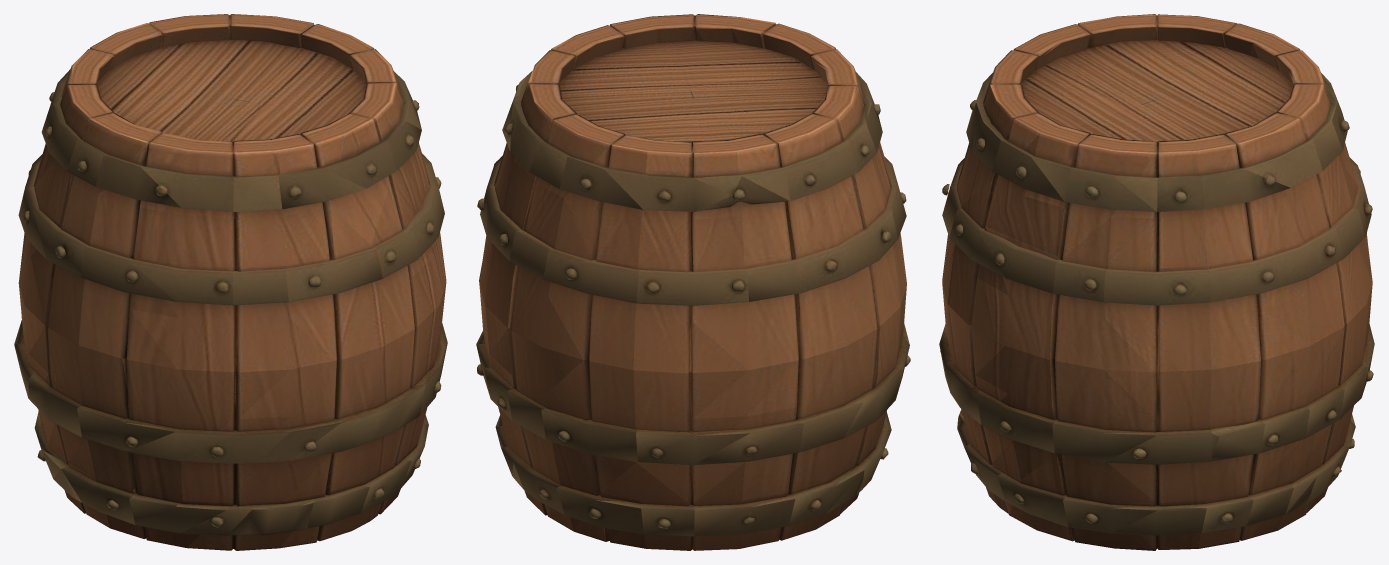
File: obstacle-barrel.glb
3 renders of one model, left to right at view 1: azimuth 30°, elevation 25°; view 2: azimuth 150°, elevation 25°; view 3: azimuth 270°, elevation 25°, orthographic.
Visible parts, largest first — view 1: mesh_node; view 2: mesh_node; view 3: mesh_node.
Boxes of the visible parts, bbox=[...] form: mesh_node: bbox=[14, 14, 447, 550]; mesh_node: bbox=[476, 14, 910, 550]; mesh_node: bbox=[939, 14, 1374, 550].
Bounding box in the file's own units: 0.9993 × 1 × 0.9999.
1 material, 1 textured.
